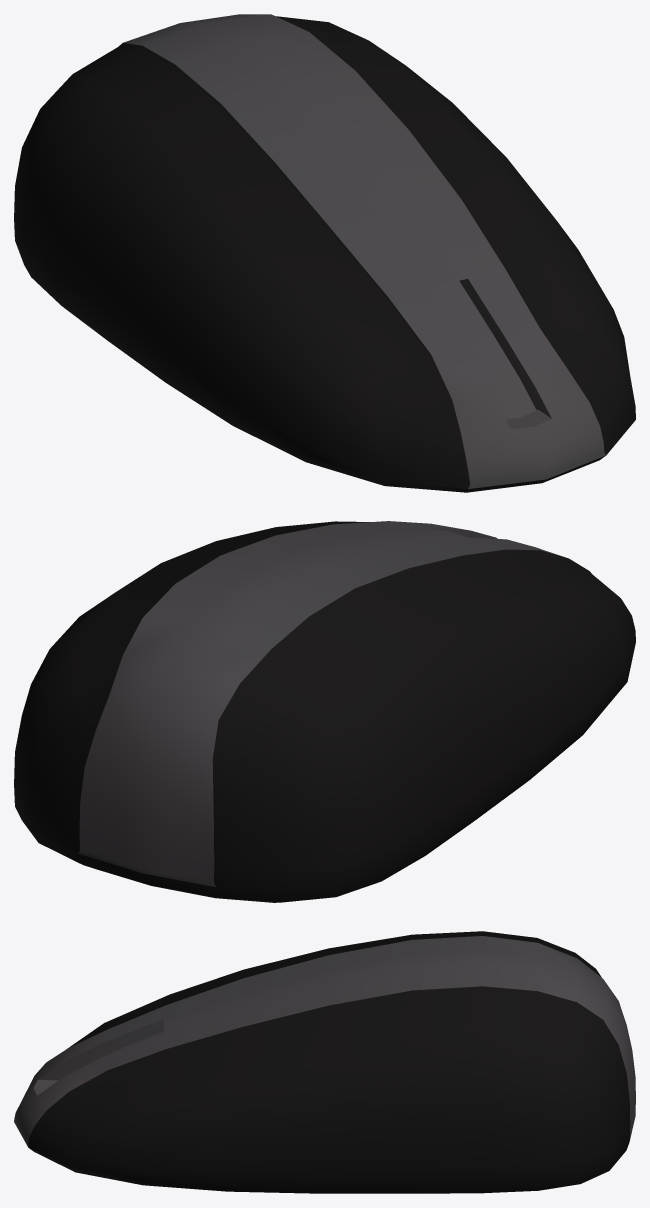
File: mouse.fbx
3 views of the same model, one above another, from view 1: azimuth 30°, elevation 25°; view 2: azimuth 150°, elevation 25°; view 3: azimuth 270°, elevation 25° (orthographic). The views are drawn at different scales.
Parts seen in each view (by area): view 1: mouse; view 2: mouse; view 3: mouse.
Boxes of the visible parts, left/top/right/bottom form: mouse: left=14, top=14, right=635, bottom=492; mouse: left=14, top=521, right=635, bottom=902; mouse: left=14, top=931, right=635, bottom=1193.
Size of the model in its own units: 405 by 234 by 740.
